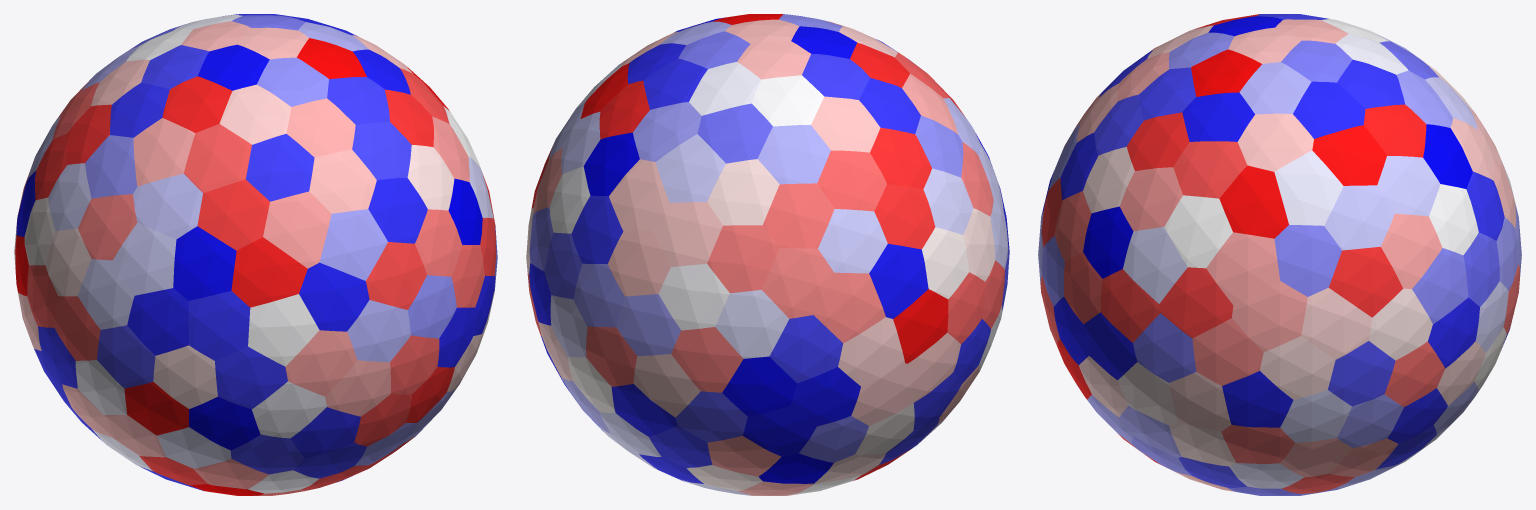
The model's file is CPD3DTest.obj.
3 renders of one model, left to right at view 1: azimuth 30°, elevation 25°; view 2: azimuth 150°, elevation 25°; view 3: azimuth 270°, elevation 25°, orthographic.
Visible parts, largest first — view 1: 3D_Object; view 2: 3D_Object; view 3: 3D_Object.
Part boxes in pixels (x1,y1,x2,y2): 3D_Object: [14, 14, 497, 495]; 3D_Object: [526, 14, 1009, 495]; 3D_Object: [1038, 14, 1521, 495].
Bounding box in the file's own units: 2 × 2 × 2.
Materials: 1 (1 with a texture image).
